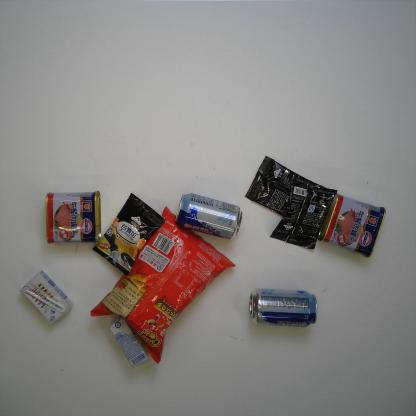Alcohol: (172, 192, 243, 242), (249, 287, 320, 330)
Canned Food: (316, 191, 388, 258), (44, 189, 102, 245)
Instant Drink: (243, 153, 335, 225), (91, 192, 167, 278), (268, 181, 340, 251)
Milk: (19, 270, 73, 326), (108, 314, 153, 368)
Puffed Food: (89, 205, 235, 365)
